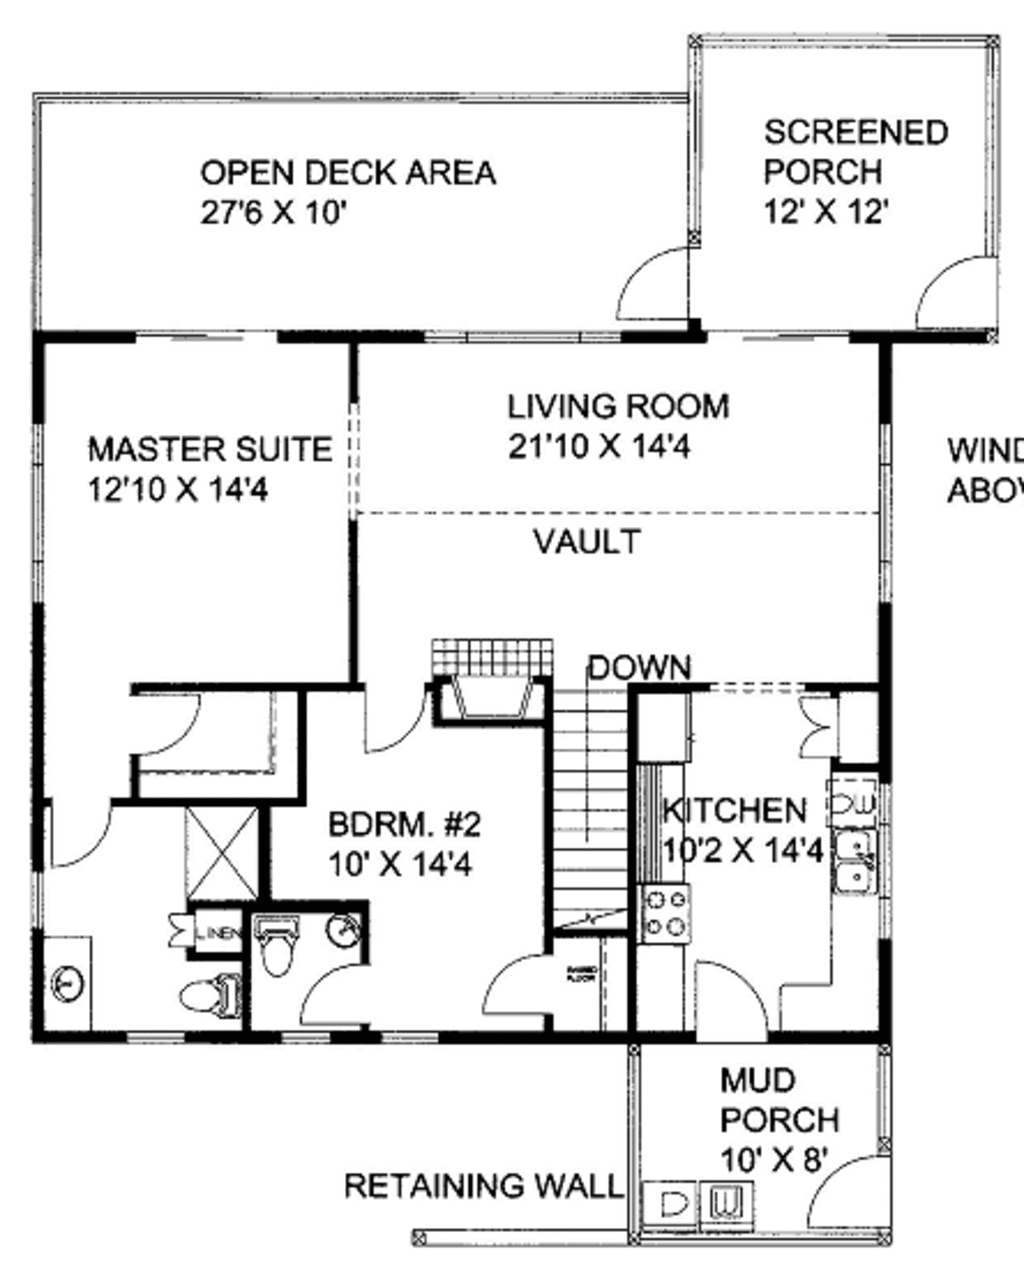door: (793, 1145, 897, 1235), (614, 232, 695, 318), (915, 251, 1002, 330), (362, 672, 437, 760), (695, 959, 766, 1051), (301, 959, 378, 1034), (472, 947, 546, 1026), (126, 685, 199, 755), (41, 797, 108, 870), (799, 682, 841, 762), (156, 905, 197, 955)
kitchen_bar: (637, 755, 705, 953)
large_sink: (170, 976, 237, 1030), (256, 907, 299, 976)
small_sink: (43, 939, 89, 1024), (320, 901, 358, 953)
stairs: (551, 674, 624, 934)
twin_sink: (837, 822, 883, 889)
window: (28, 430, 53, 601), (430, 328, 616, 347), (876, 422, 891, 595), (709, 326, 850, 339), (876, 1041, 897, 1124)
